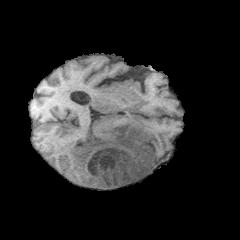glioma: (57, 122, 156, 189)
